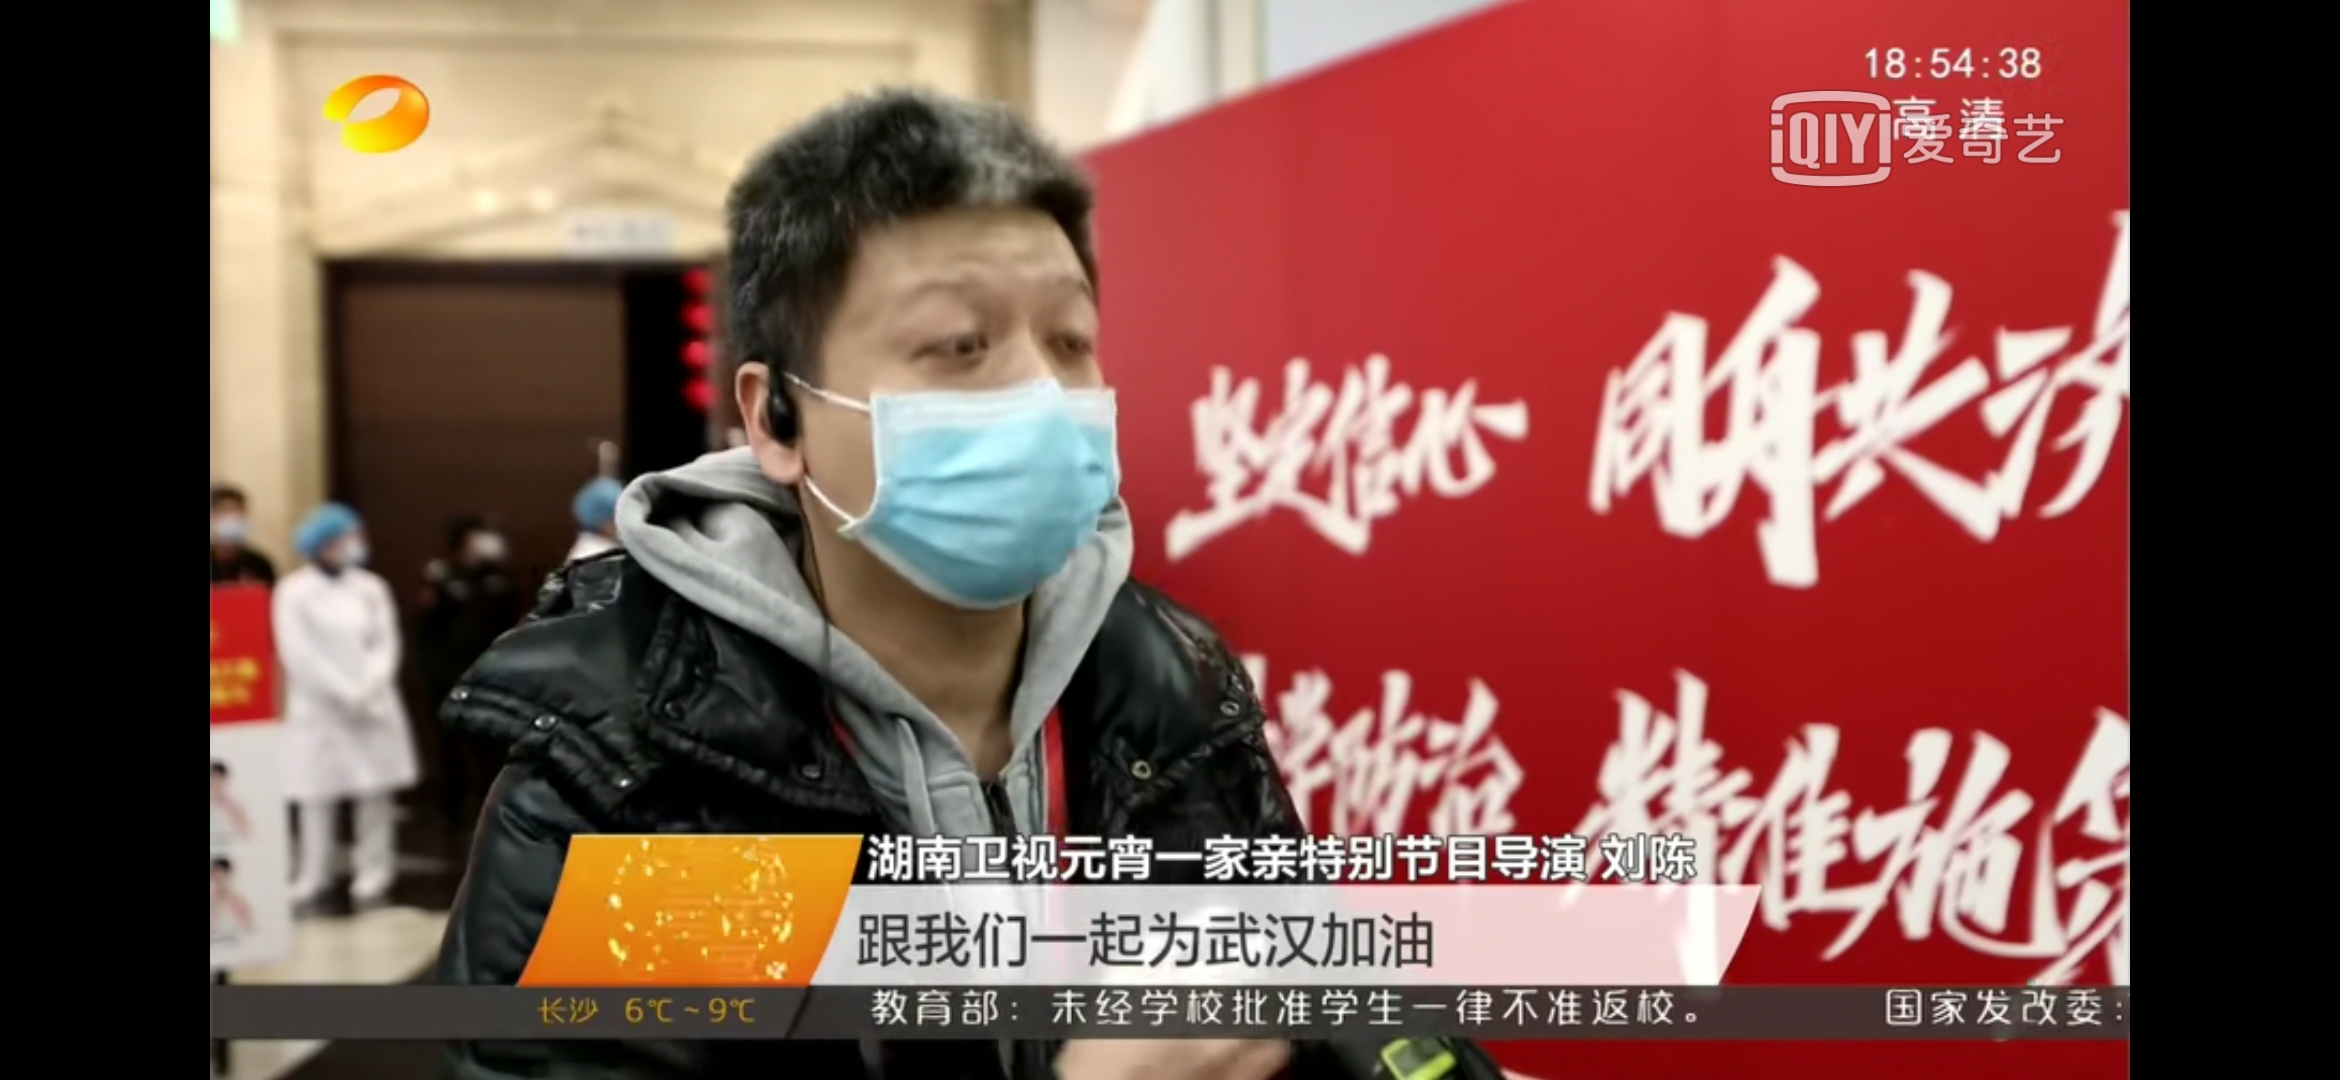correctlyWear: (725, 269, 1139, 628), (319, 528, 367, 568), (210, 500, 248, 547)
